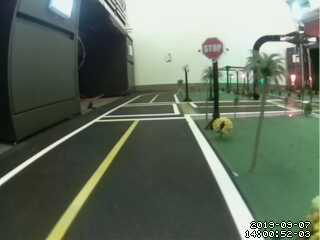Stop_Sign: (197, 35, 230, 65)
